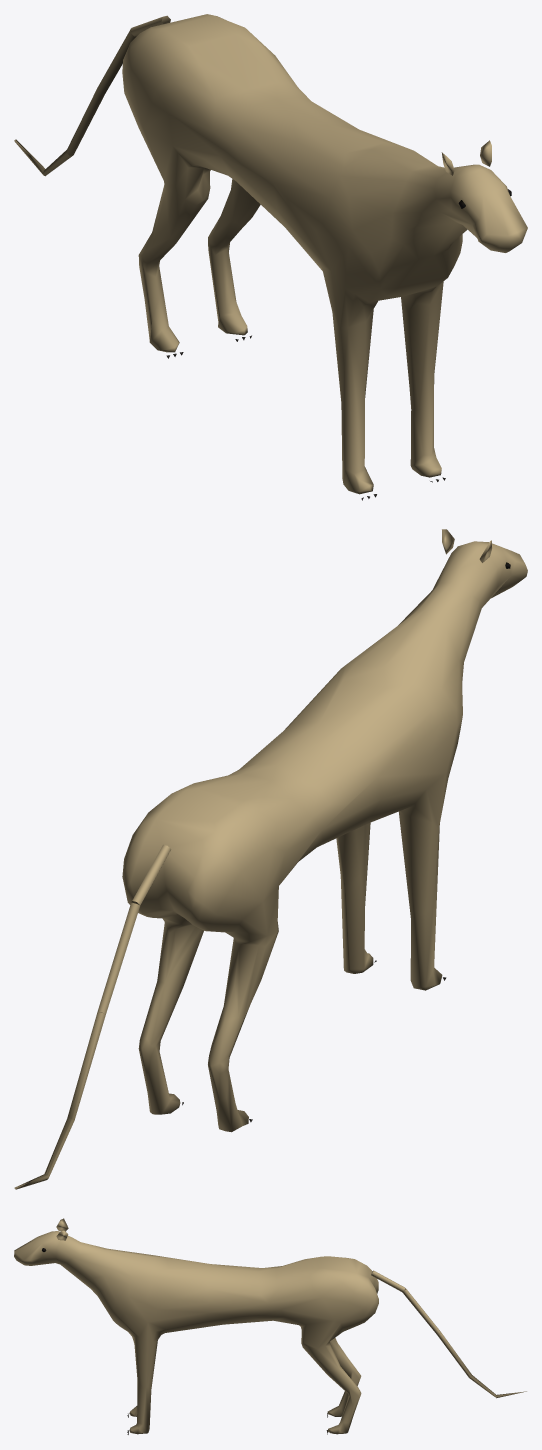
The model's file is gepard.glb.
3 views of the same model, one above another, from view 1: azimuth 30°, elevation 25°; view 2: azimuth 150°, elevation 25°; view 3: azimuth 270°, elevation 25° (orthographic). The views are drawn at different scales.
Parts seen in each view (by area): view 1: lack; view 2: lack; view 3: lack.
Part boxes in pixels (left/top/right/bottom): lack: left=14, top=14, right=527, bottom=500; lack: left=14, top=529, right=527, bottom=1189; lack: left=14, top=1218, right=526, bottom=1434.
Bounding box in the file's own units: 0.314 × 0.976 × 2.26.
